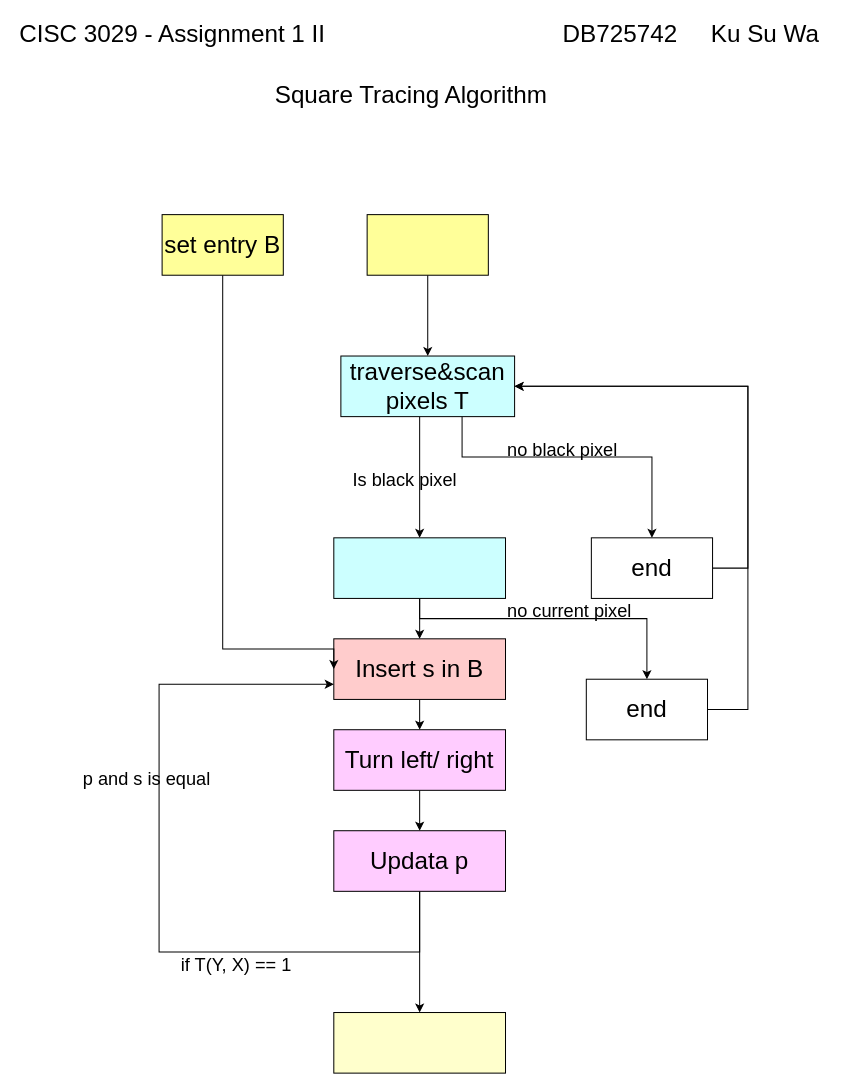
Some shapes in this 850 by 1091 pixel diagram are drawn without their labels. The centre of each missing label's shape, as x and y in pixels:
input: the point at 427,244
output: the point at 419,1042
visit the adjacent p: the point at 419,567
